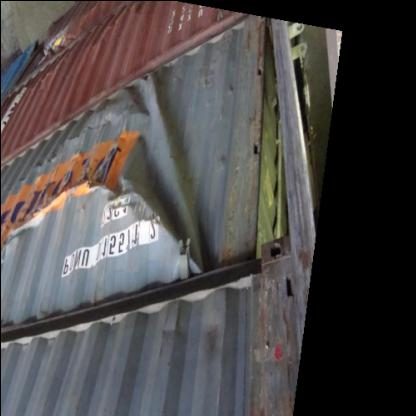Damage: (92, 66, 217, 270), (1, 146, 96, 254)
